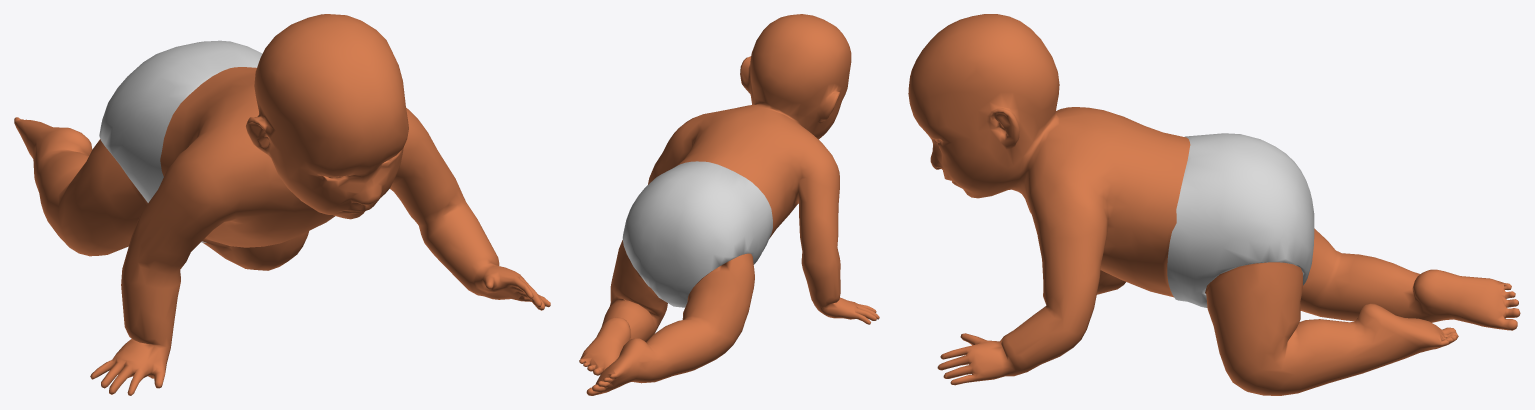
The model's file is Baby.fbx.
3 views of the same model, side by side, from view 1: azimuth 30°, elevation 25°; view 2: azimuth 150°, elevation 25°; view 3: azimuth 270°, elevation 25° (orthographic). The views are drawn at different scales.
Parts seen in each view (by area): view 1: Baby V4; view 2: Baby V4; view 3: Baby V4.
Boxes of the visible parts, <box> form: Baby V4: <box>14,14,550,395</box>; Baby V4: <box>579,14,879,395</box>; Baby V4: <box>908,14,1520,395</box>.
Bounding box in the file's own units: 123 × 120 × 199.
